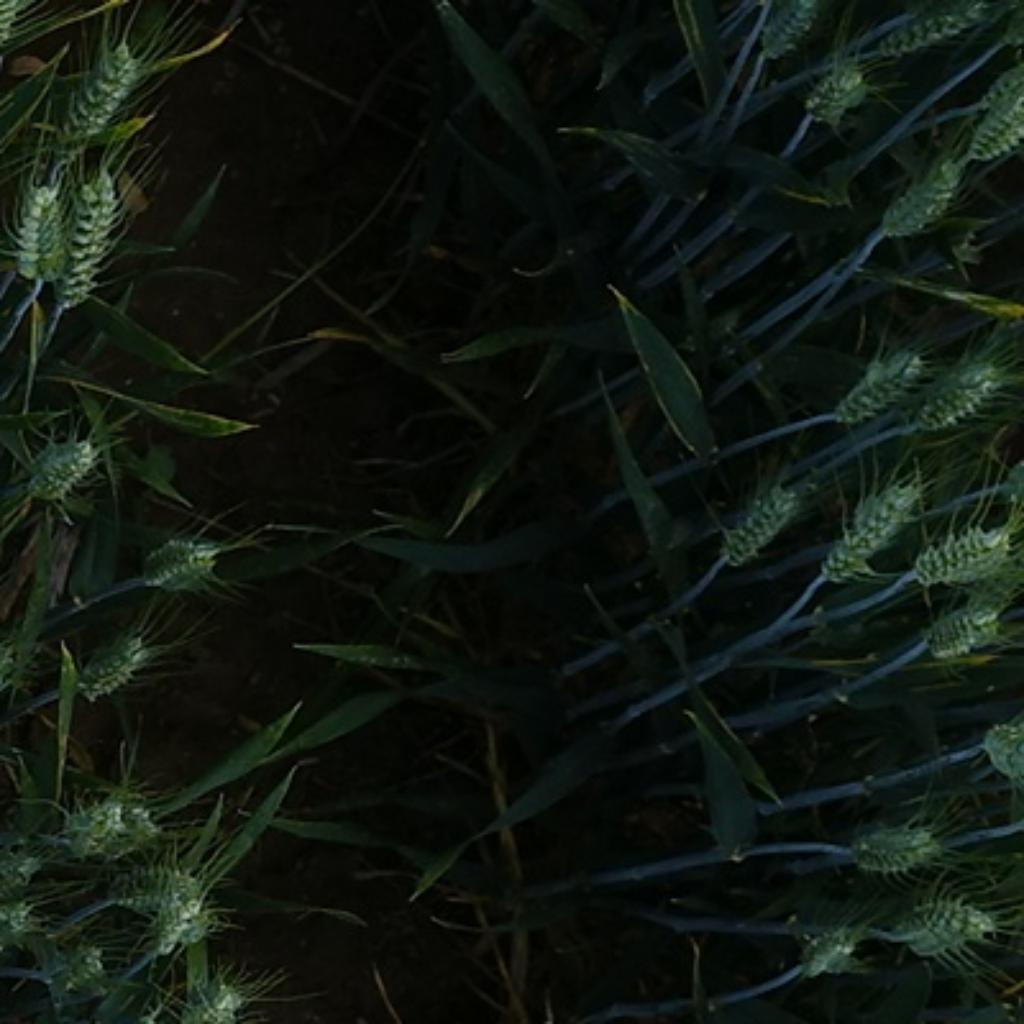0-0: (46, 171, 143, 317), (48, 28, 156, 143), (819, 471, 924, 578), (53, 775, 168, 867), (872, 138, 975, 240), (711, 471, 811, 565), (122, 855, 222, 949), (911, 337, 1011, 430), (908, 514, 1021, 596), (824, 337, 929, 424), (868, 1, 998, 65), (888, 883, 1000, 957), (17, 919, 110, 1006), (913, 586, 1024, 657), (71, 616, 158, 704), (21, 433, 113, 515), (842, 811, 947, 878), (132, 526, 232, 593), (12, 186, 69, 302), (797, 48, 879, 122), (952, 708, 1024, 784), (791, 916, 872, 977), (174, 965, 256, 1024), (967, 84, 1024, 163), (760, 2, 819, 69)
